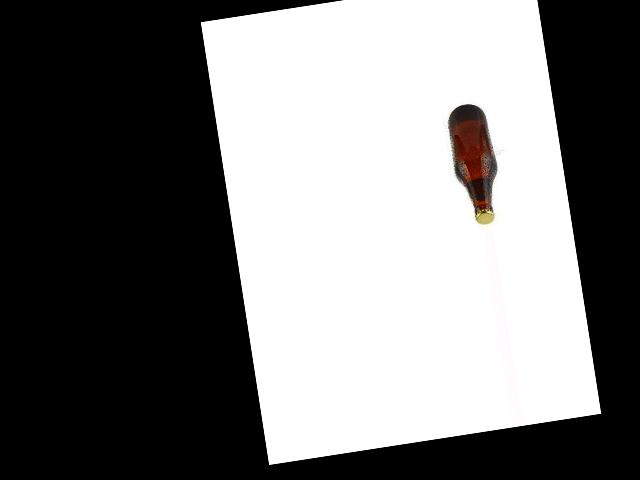beer: (445, 102, 503, 227)
